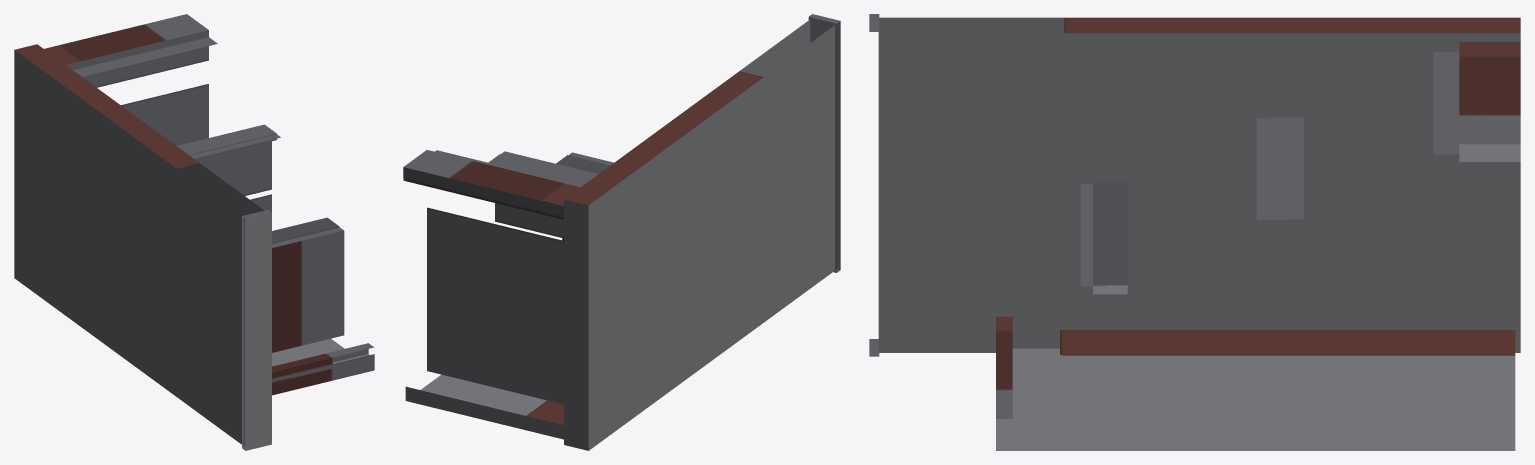
Rendered from section-0.obj.
3 views of the same model, side by side, from view 1: azimuth 30°, elevation 25°; view 2: azimuth 150°, elevation 25°; view 3: azimuth 270°, elevation 25° (orthographic). The views are drawn at different scales.
Bounding box in the file's own units: 0.504 × 0.642 × 1.17.
